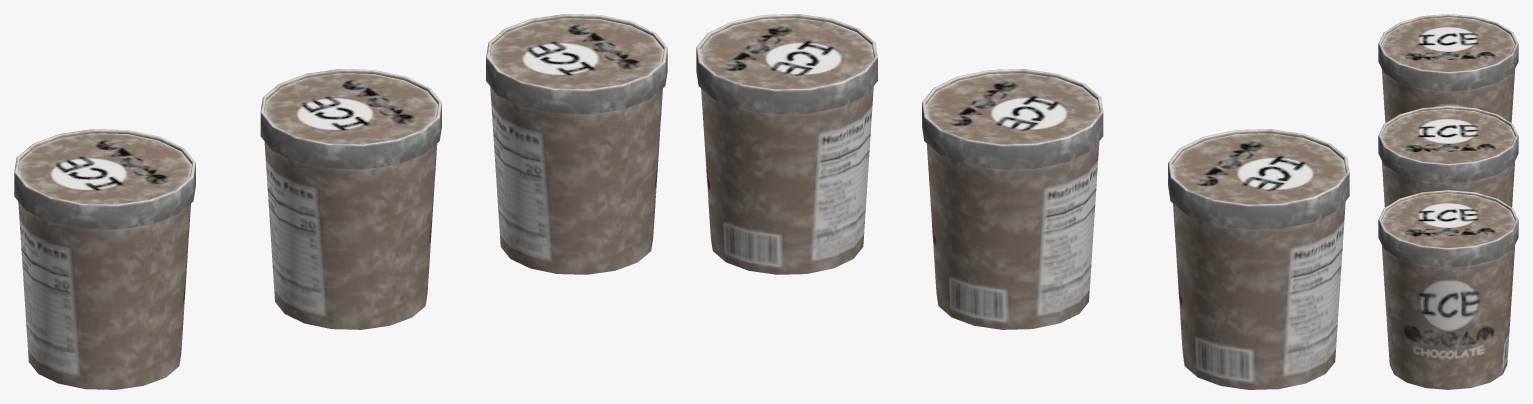
Rendered from Ice_Cream.glb.
3 renders of one model, left to right at view 1: azimuth 30°, elevation 25°; view 2: azimuth 150°, elevation 25°; view 3: azimuth 270°, elevation 25°, orthographic. The views are drawn at different scales.
Parts seen in each view (by area): view 1: Ice_Cream_2; view 2: Ice_Cream_2; view 3: Ice_Cream_2.
Boxes of the visible parts, bbox=[...] form: Ice_Cream_2: bbox=[14, 14, 667, 389]; Ice_Cream_2: bbox=[696, 14, 1349, 389]; Ice_Cream_2: bbox=[1378, 14, 1518, 389].
Bounding box in the file's own units: 0.6033 × 0.1742 × 0.1518.
Materials: 1 (1 with a texture image).
